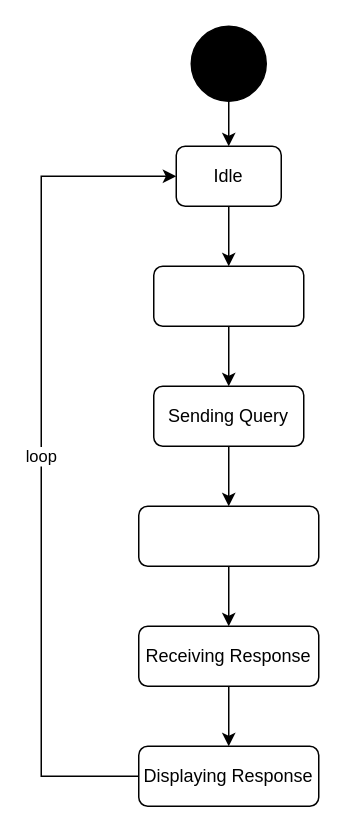
The diagram is 345 pixels wide and 833 high, and some of its shapes have lost their labels. Here are the shapes that lost their labels. From the top down, the centre of each, then its label:
At (228,295): "User Types Message".
At (228,535): "Waiting for AI Response".
